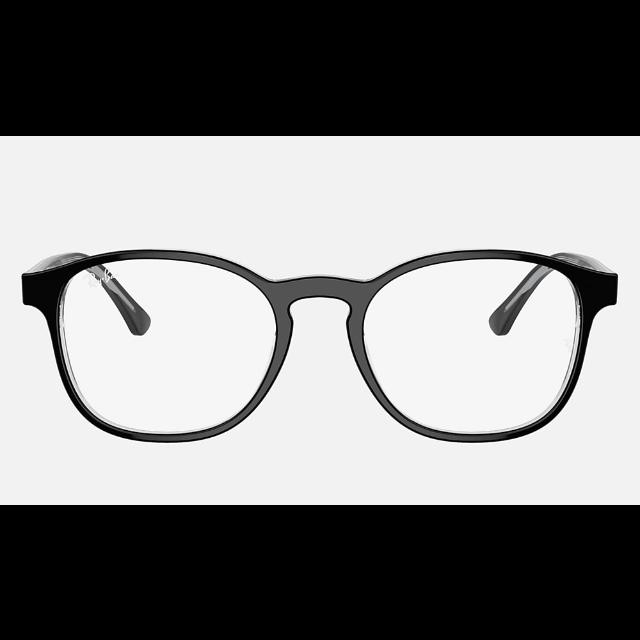glasses: (21, 249, 618, 443)
